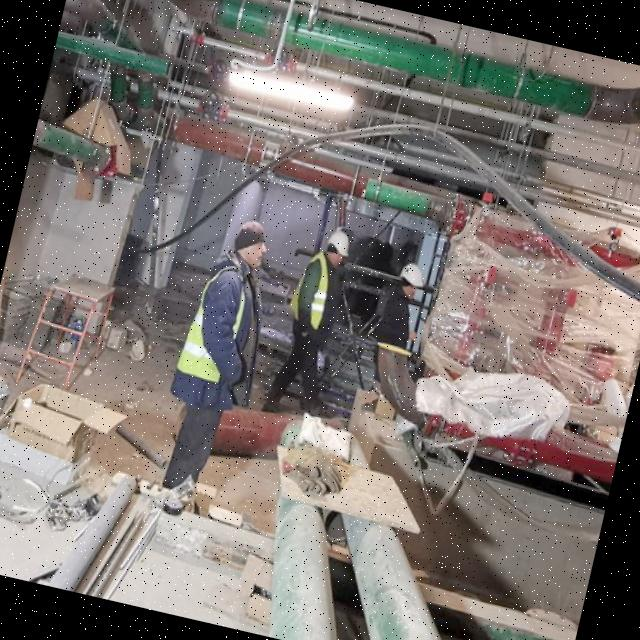Helmet: (320, 228, 354, 274), (393, 261, 429, 304)
NoHelmet: (229, 218, 274, 273)
